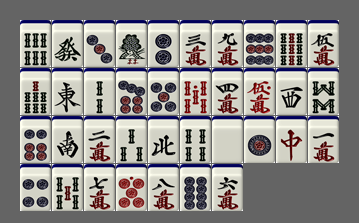0m: (244, 68, 275, 115)
0p: (116, 164, 147, 211)
0s: (180, 68, 211, 115)
1m: (308, 116, 339, 163)
1p: (244, 116, 275, 163)
1s: (116, 20, 147, 67)
1z: (52, 68, 83, 115)
2m: (84, 116, 115, 163)
2p: (148, 20, 179, 67)
2s: (84, 68, 115, 115)
2z: (52, 116, 83, 163)
3m: (180, 20, 211, 67)
3p: (84, 20, 115, 67)
3s: (116, 116, 147, 163)
3z: (276, 68, 307, 115)
4m: (212, 68, 243, 115)
4p: (20, 164, 51, 211)
4s: (180, 116, 211, 163)
4z: (148, 116, 179, 163)
5m: (308, 20, 339, 67)
5p: (148, 68, 179, 115)
5s: (52, 164, 83, 211)
5z: (212, 116, 243, 163)
6m: (212, 164, 243, 211)
6p: (20, 116, 51, 163)
6s: (20, 20, 51, 67)
6z: (52, 20, 83, 67)
7m: (84, 164, 115, 211)
7p: (116, 68, 147, 115)
7s: (20, 68, 51, 115)
7z: (276, 116, 307, 163)
8m: (148, 164, 179, 211)
8p: (180, 164, 211, 211)
8s: (308, 68, 339, 115)
9m: (212, 20, 243, 67)
9p: (244, 20, 275, 67)
9s: (276, 20, 307, 67)
